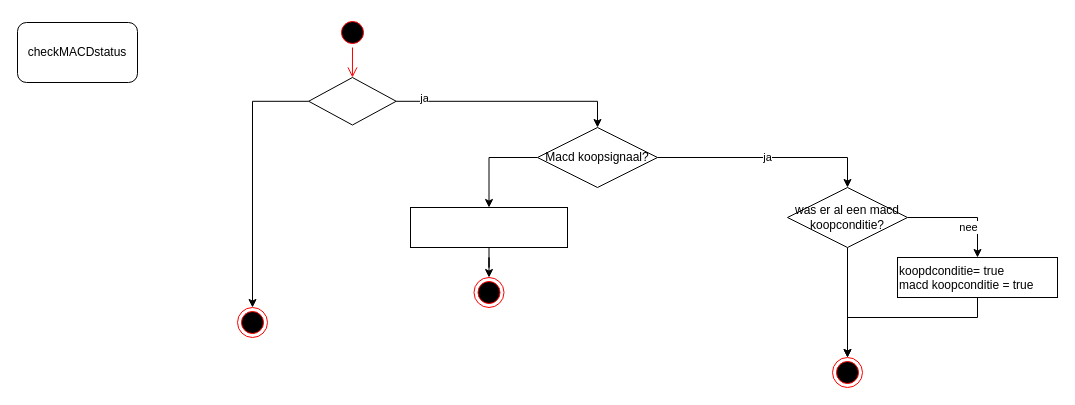
This 1075x405 diagram has some shape labels left out. The shapes that lost their labels are listed below. From the top down, each one's centre as x and y in pixels, then its label:
At (x=352, y=100): "Macd signaal".
At (x=489, y=227): "koopdconditie= false macd koopconditie = false".
